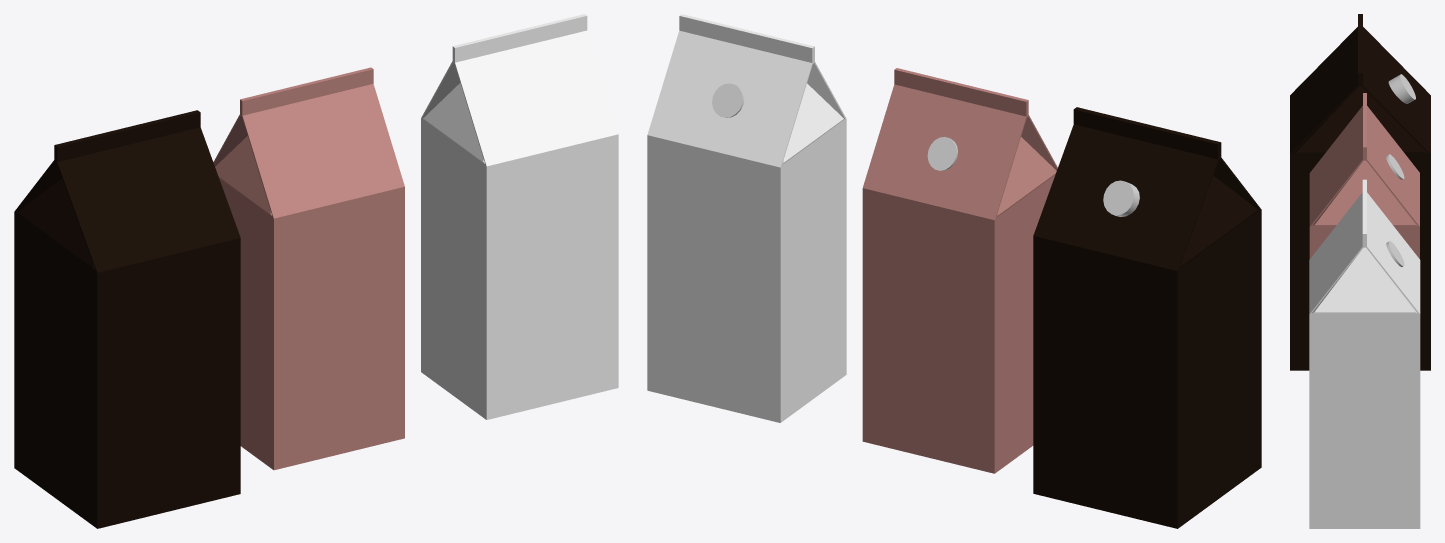
File: milks.fbx
3 views of the same model, side by side, from view 1: azimuth 30°, elevation 25°; view 2: azimuth 150°, elevation 25°; view 3: azimuth 270°, elevation 25° (orthographic). The views are drawn at different scales.
Parts seen in each view (by area): view 1: cap1, normal milk, strawberry milk; view 2: cap1, normal milk, strawberry milk, chocolate milk, cap003, cap2; view 3: normal milk, cap1, strawberry milk, chocolate milk, cap003, cap2.
Part boxes in pixels (<box>): cap1: <box>14,110,240,528</box>; normal milk: <box>421,14,618,419</box>; strawberry milk: <box>213,67,404,470</box>; cap1: <box>1033,107,1261,528</box>; normal milk: <box>647,14,846,422</box>; strawberry milk: <box>862,68,1057,473</box>; chocolate milk: <box>1103,180,1139,216</box>; cap003: <box>712,83,744,117</box>; cap2: <box>927,137,957,170</box>; normal milk: <box>1309,179,1420,528</box>; cap1: <box>1290,14,1430,370</box>; strawberry milk: <box>1309,93,1419,258</box>; chocolate milk: <box>1388,74,1415,103</box>; cap003: <box>1386,241,1404,266</box>; cap2: <box>1386,154,1404,179</box>.
Size of the model in its own units: 49.26 by 31.1 by 13.33.
